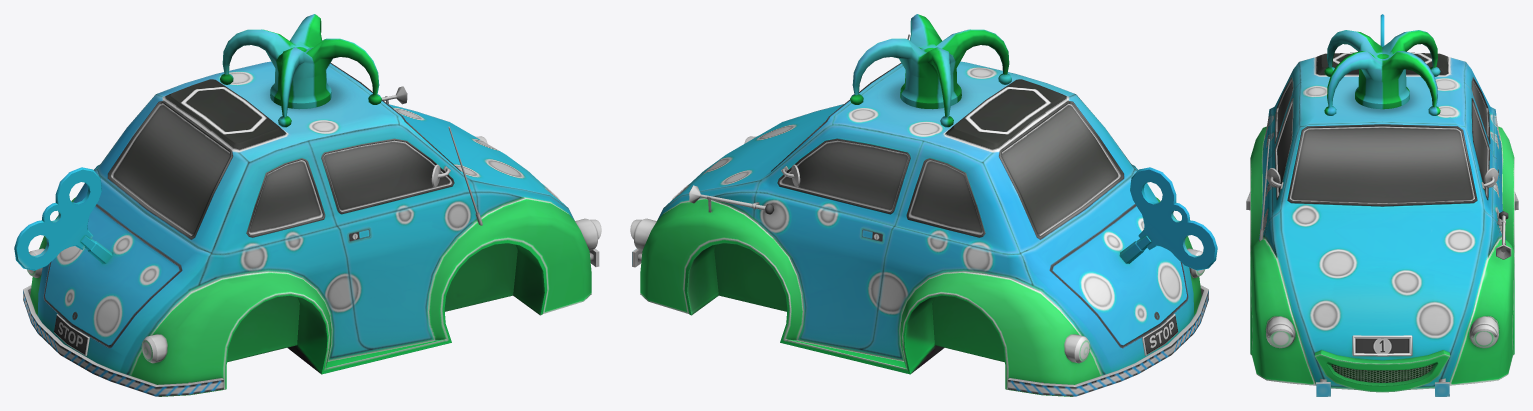
Rendered from f1_car_clown_08.dae.
3 views of the same model, side by side, from view 1: azimuth 30°, elevation 25°; view 2: azimuth 150°, elevation 25°; view 3: azimuth 270°, elevation 25° (orthographic). The views are drawn at different scales.
Visible parts, largest first — view 1: car_body; view 2: car_body; view 3: car_body.
Boxes of the visible parts, x1=… form: car_body: x1=14, y1=14, x2=601, y2=396; car_body: x1=630, y1=14, x2=1217, y2=396; car_body: x1=1246, y1=14, x2=1518, y2=396.
Bounding box in the file's own units: 0.4024 × 0.1936 × 0.1918.
Materials: 1 (1 with a texture image).
